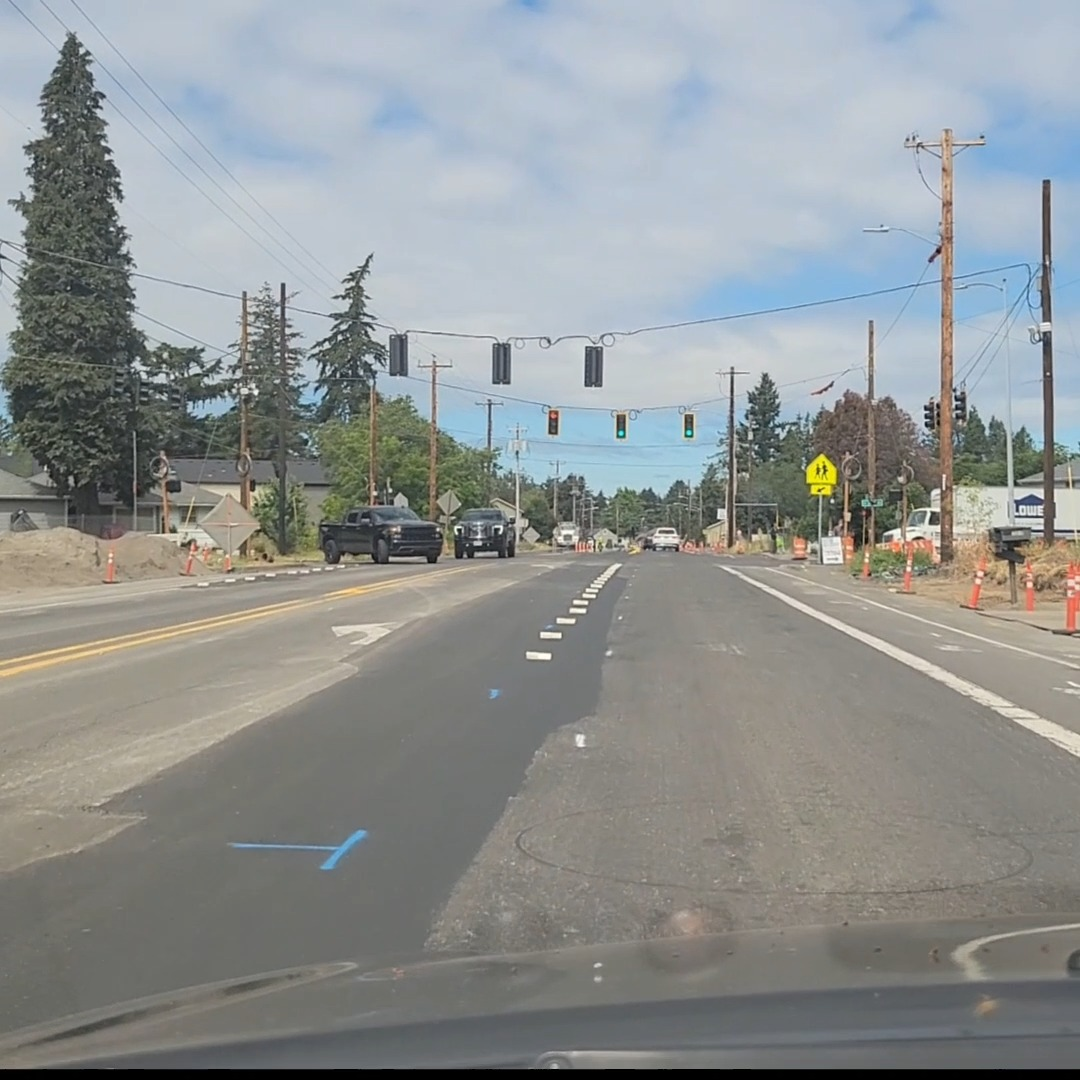car: (318, 506, 443, 565), (448, 507, 516, 557), (641, 526, 682, 551), (552, 521, 580, 550)
crosswalk-sign: (804, 453, 837, 494)
delineator: (966, 558, 987, 611), (900, 543, 915, 592), (180, 543, 199, 577), (1023, 563, 1036, 611), (102, 548, 118, 583), (861, 543, 872, 577), (221, 549, 233, 573), (201, 544, 212, 563), (890, 536, 901, 554)
